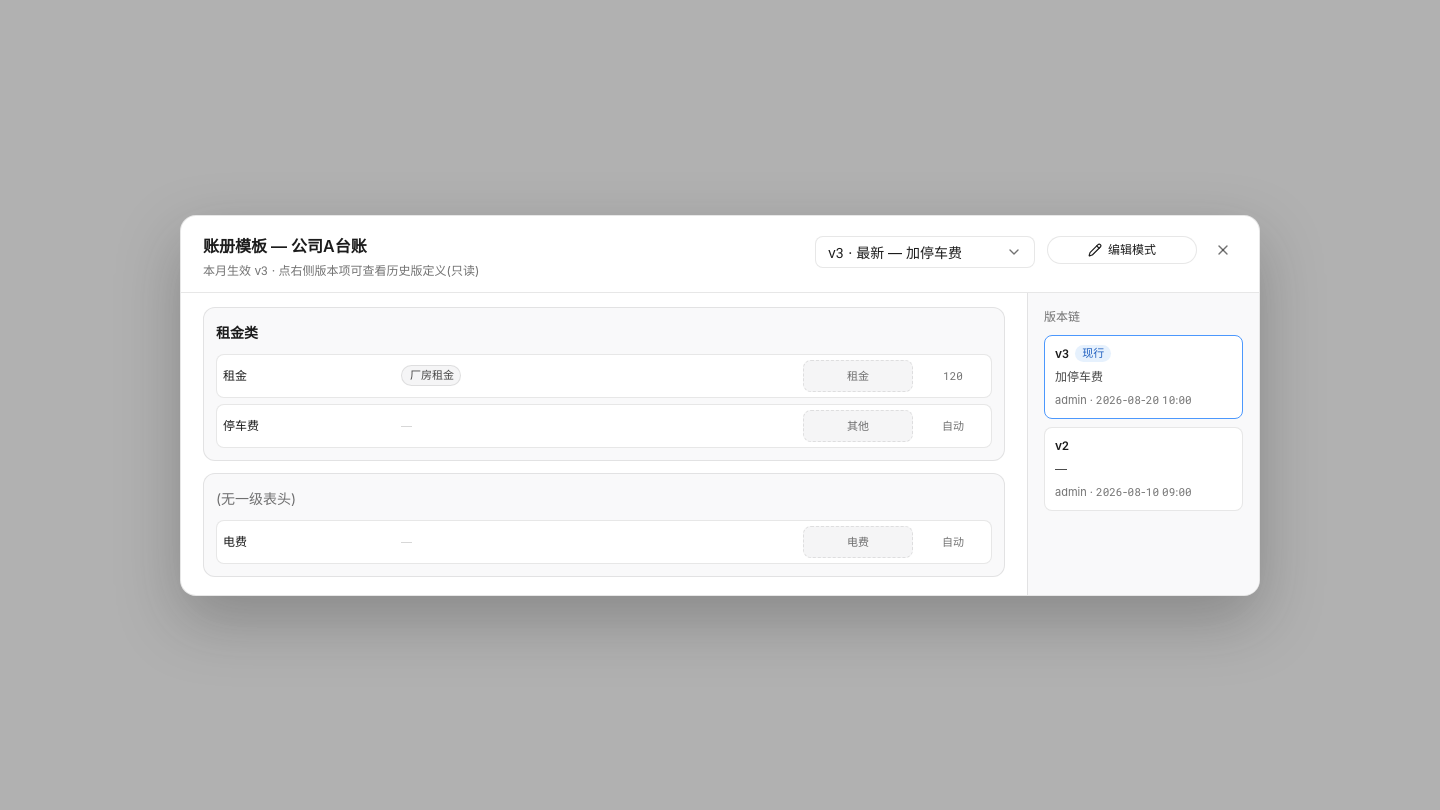
Scenario: TemplateEditorPanel · 历史版预览 › 正在看历史版时点「编辑模式」:先切回现行版再进入编辑(编辑的是现行定义)
What coordinates should you click on to do the following:
click the element with class "te-vitem" showing "v2 — admin · 2026-08-10 09:00"
I would click on:
 (1144, 468)
Its box is [1044,426,1243,510].
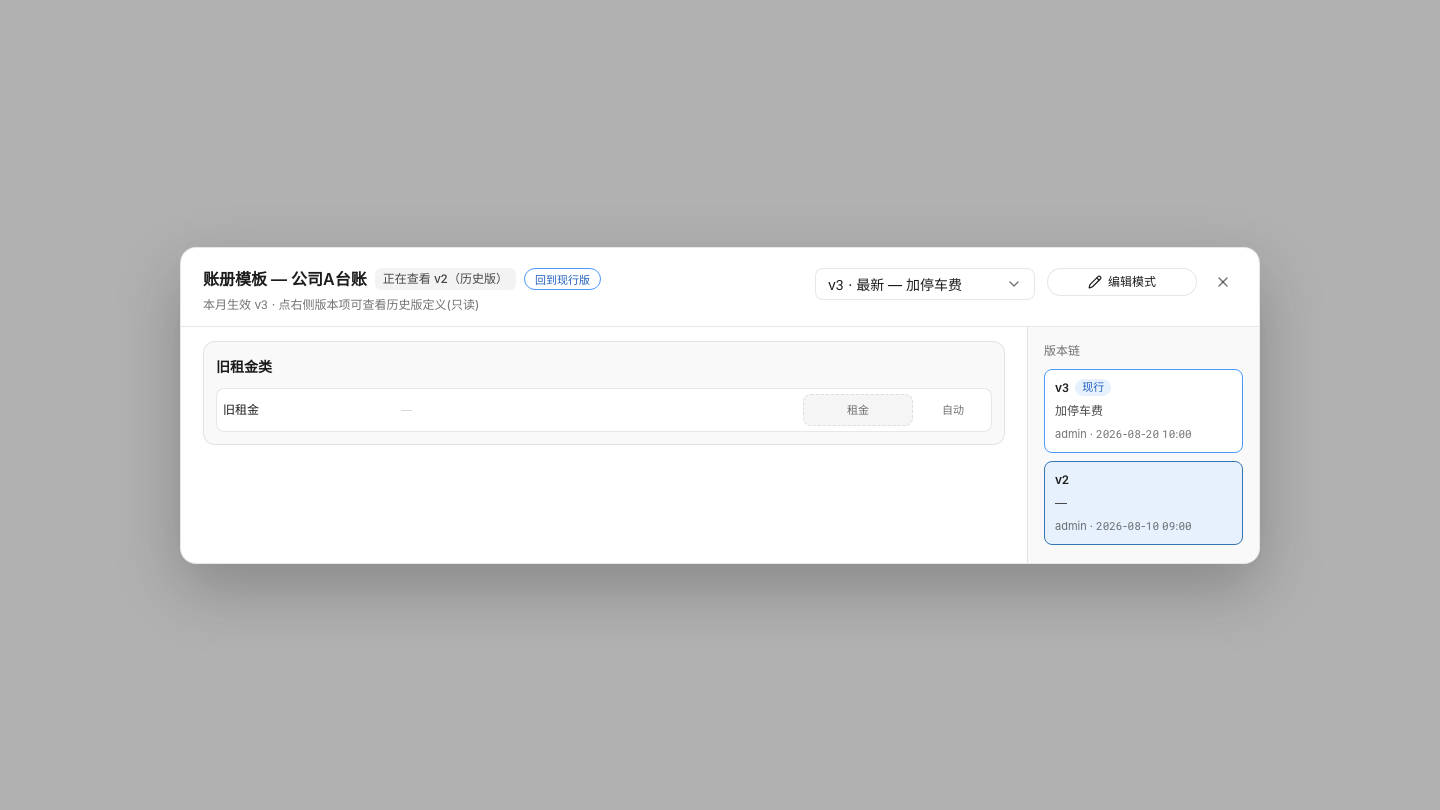
What coordinates should you click on to do the following:
click the button with class "te-editbtn"
I would click on:
 (1122, 282)
Its box is [1047,268,1197,296].
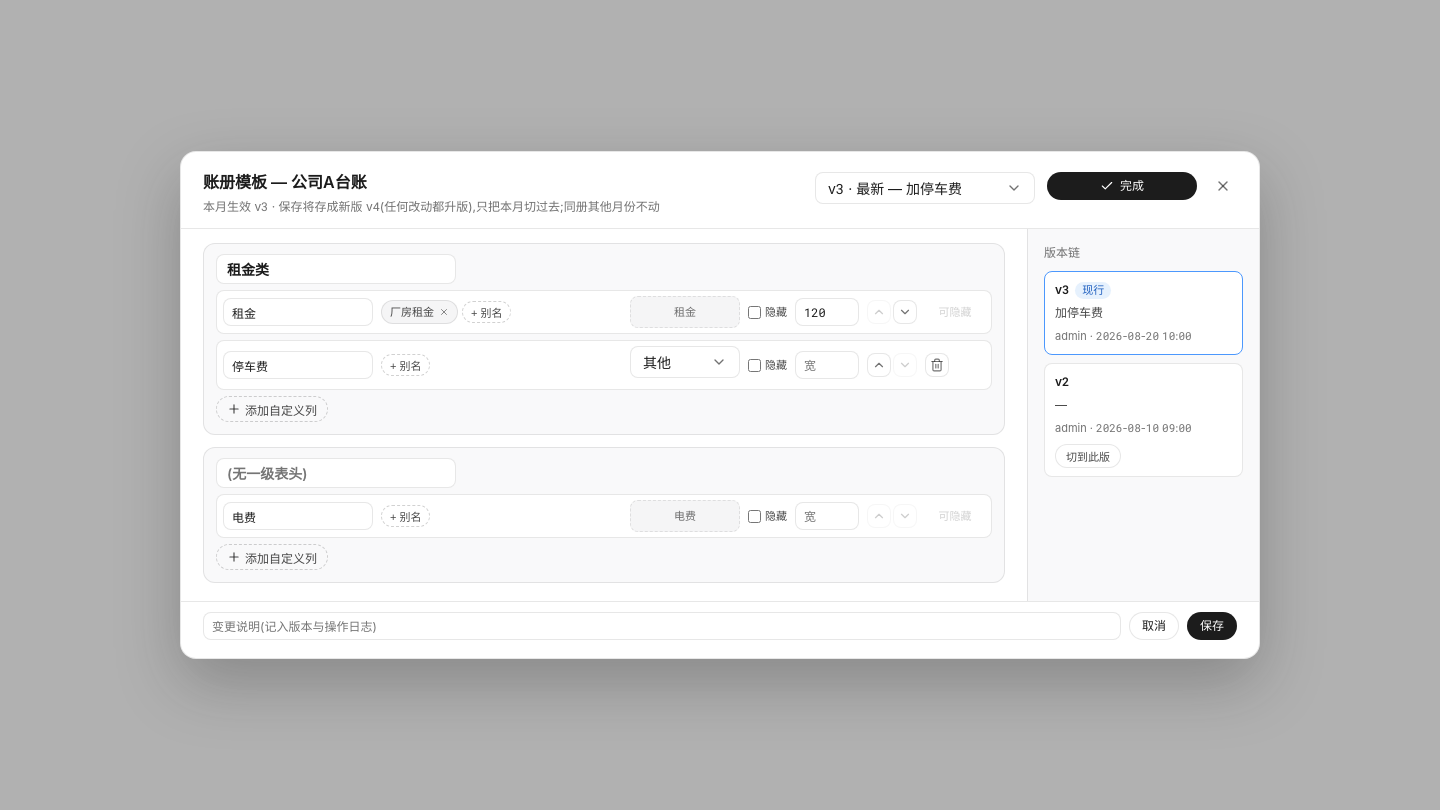
Check: the field with class "te-name" next to "厂房租金" holds "租金", box [223,298,373,326]
